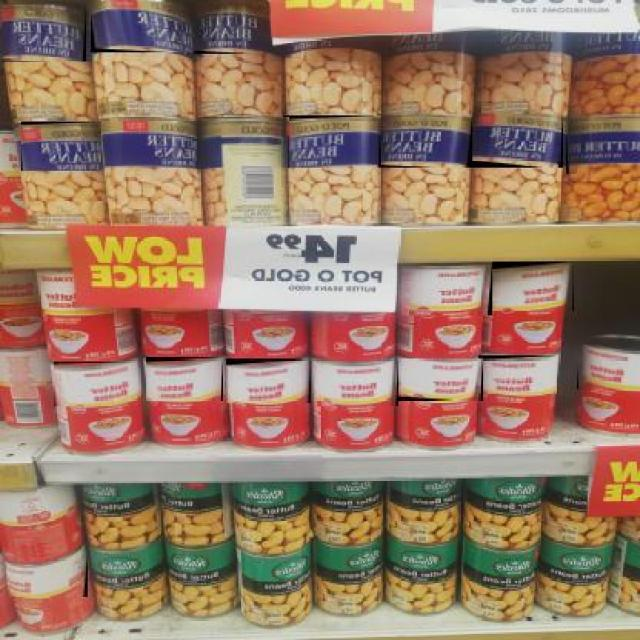Beans: (98, 118, 198, 176), (90, 1, 196, 54), (399, 260, 492, 317), (282, 116, 380, 170), (376, 115, 472, 170), (471, 114, 563, 169), (0, 5, 86, 63), (192, 1, 278, 56), (564, 113, 640, 175), (202, 116, 289, 170), (484, 262, 573, 312), (19, 121, 103, 172), (314, 357, 398, 408), (393, 358, 484, 402), (224, 360, 310, 406), (53, 362, 138, 408), (4, 552, 88, 598), (145, 357, 223, 401), (477, 356, 557, 396), (576, 345, 638, 392)
